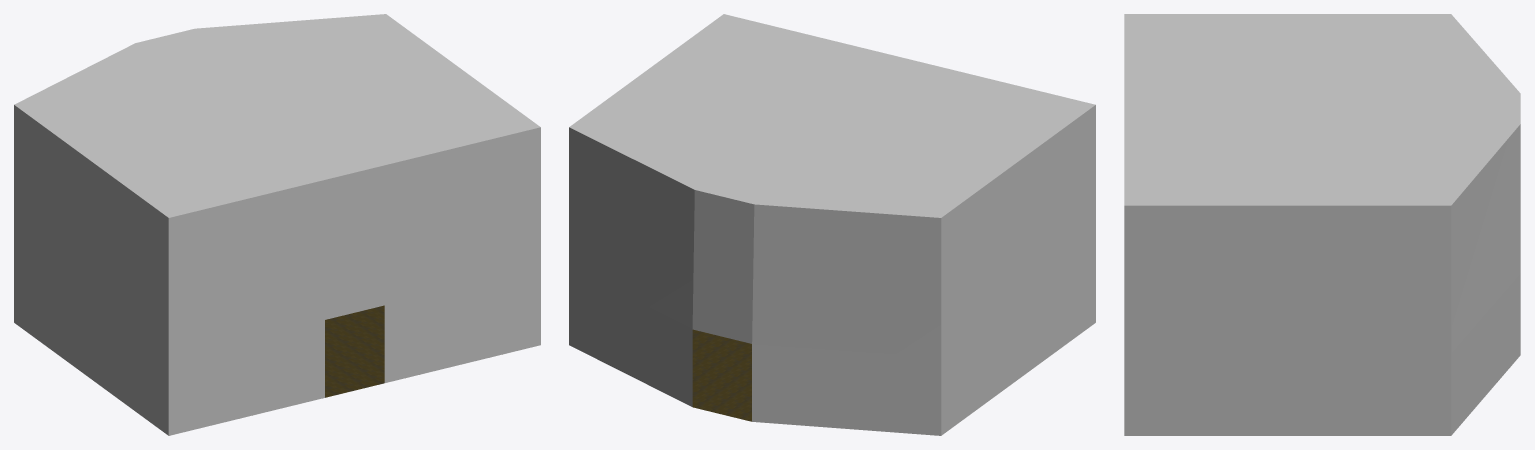
The model's file is RoomIrregular.fbx.
The picture shows the model from 3 angles, left to right: view 1: azimuth 30°, elevation 25°; view 2: azimuth 150°, elevation 25°; view 3: azimuth 270°, elevation 25°; orthographic projection. The views are drawn at different scales.
Parts seen in each view (by area): view 1: WallIrregular, FloorIrregular; view 2: WallIrregular, FloorIrregular; view 3: WallIrregular.
Boxes of the visible parts, x1,y1,x2,y2 form: WallIrregular: (14, 14, 540, 435); FloorIrregular: (325, 305, 384, 397); WallIrregular: (569, 14, 1095, 435); FloorIrregular: (692, 329, 751, 421); WallIrregular: (1124, 14, 1520, 435).
Bounding box in the file's own units: 2500 × 1400 × 2182.
